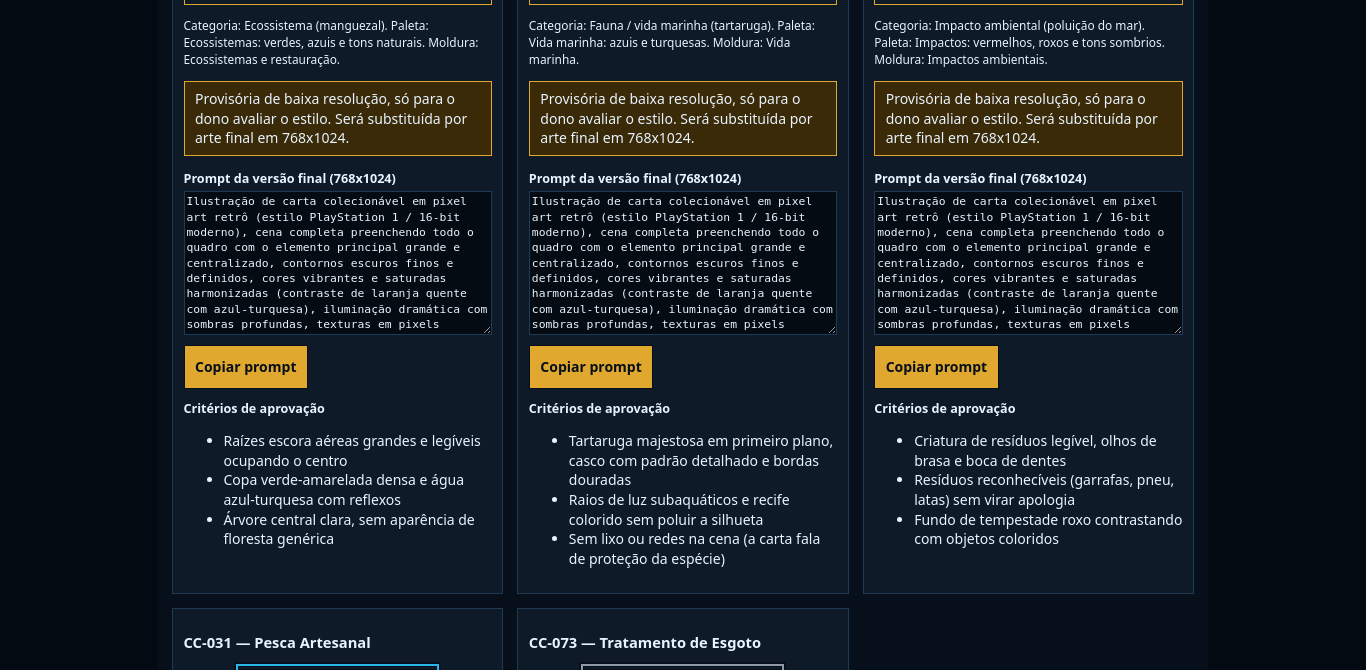
Test case: página de avaliação (?arte=1) › copiar prompt usa a área de transferência e informa o resultado
(page scrolled)
Click the button "Copiar prompt" below "Ecossistema (manguezal)" at (246, 367), box [184,345,308,389]
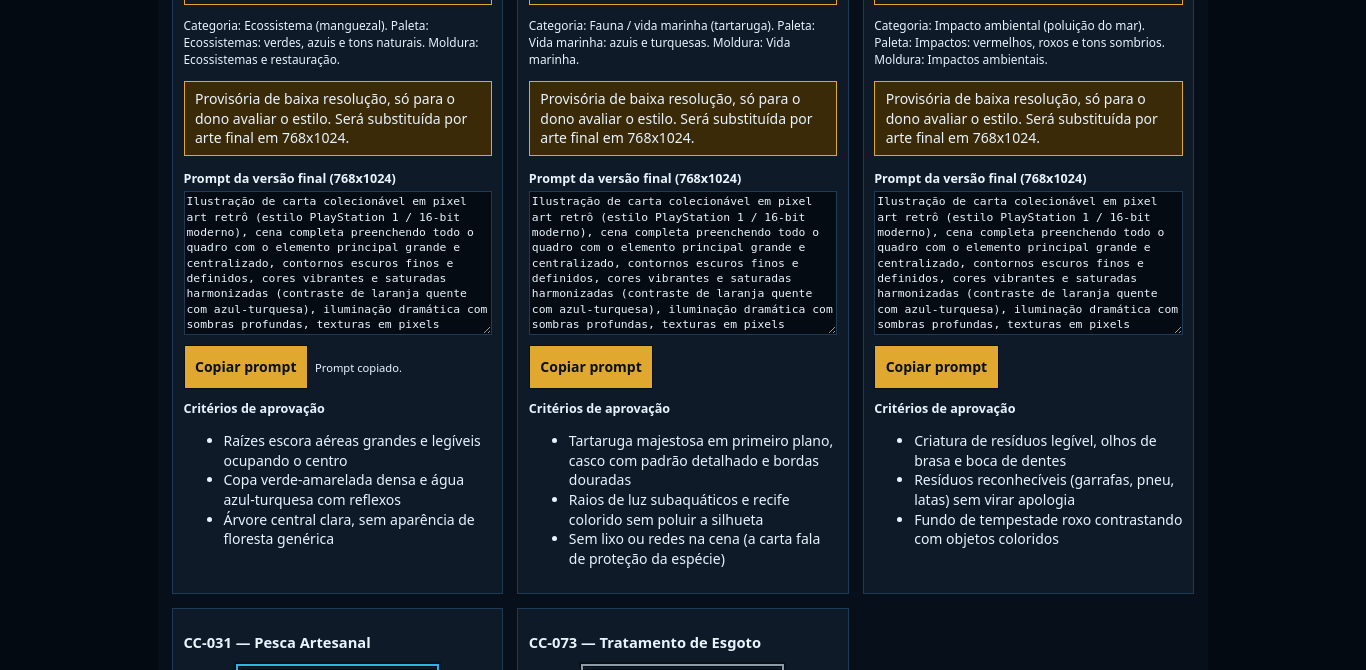
Now the text "Prompt copiado." is shown, box [315,360,402,375]
